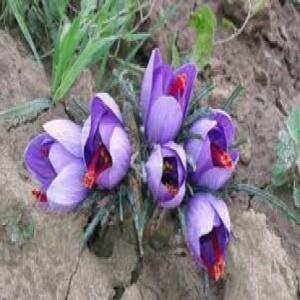Saffron: (22, 120, 96, 211), (79, 89, 134, 192), (142, 45, 195, 140), (180, 193, 237, 273), (184, 109, 241, 186), (148, 142, 191, 205)
